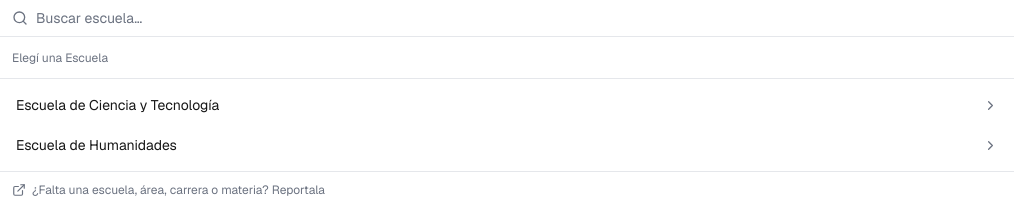
Scenario: AreasCascader › prunes branches that lead to no Materia
Click the button "Escuela de Ciencia y Tecnología". click: point(118, 105)
box: [6,85,1008,125]
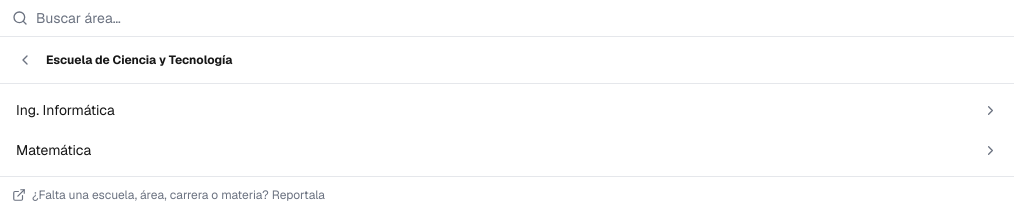
Expected: the button "Ing. Informática" is shown, [6,90,1008,130]
